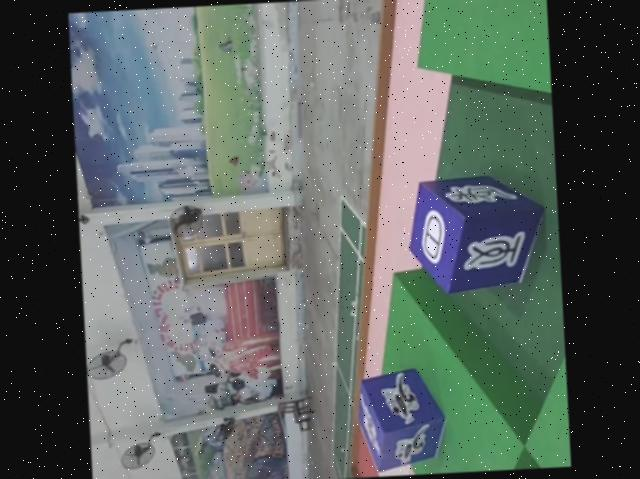R1 Blue: (359, 365, 451, 473)
R2 Fake Blue: (406, 175, 550, 298)
